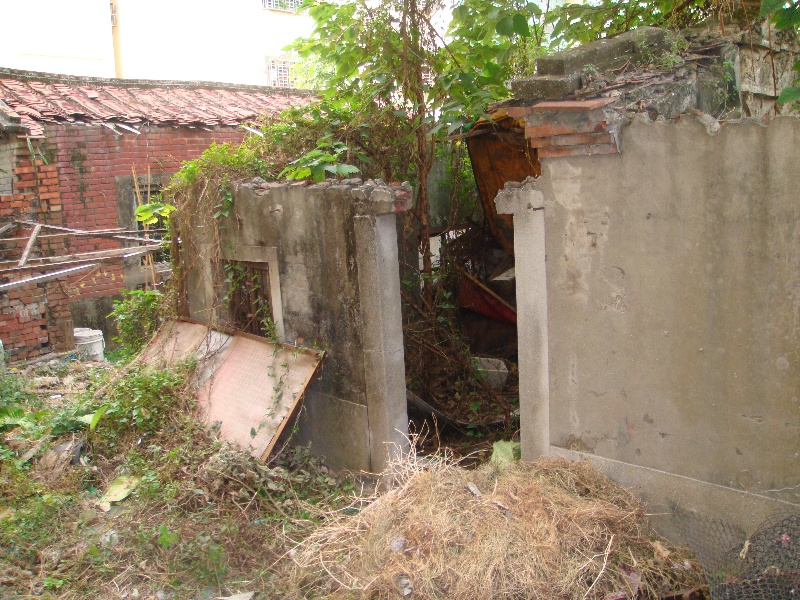bucket: (74, 328, 105, 361)
styrofoam: (468, 354, 508, 387)
